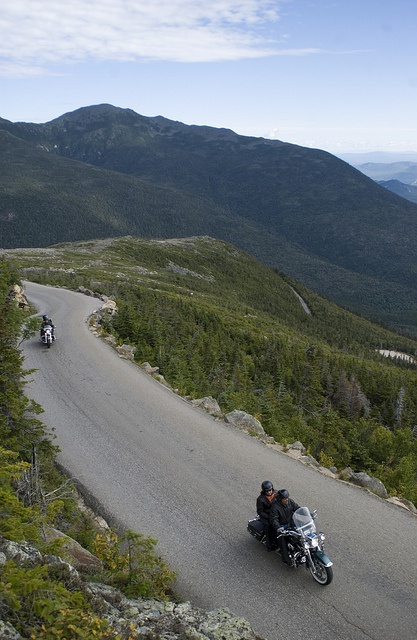non-vehicle: (246, 506, 333, 586), (39, 319, 56, 348)
